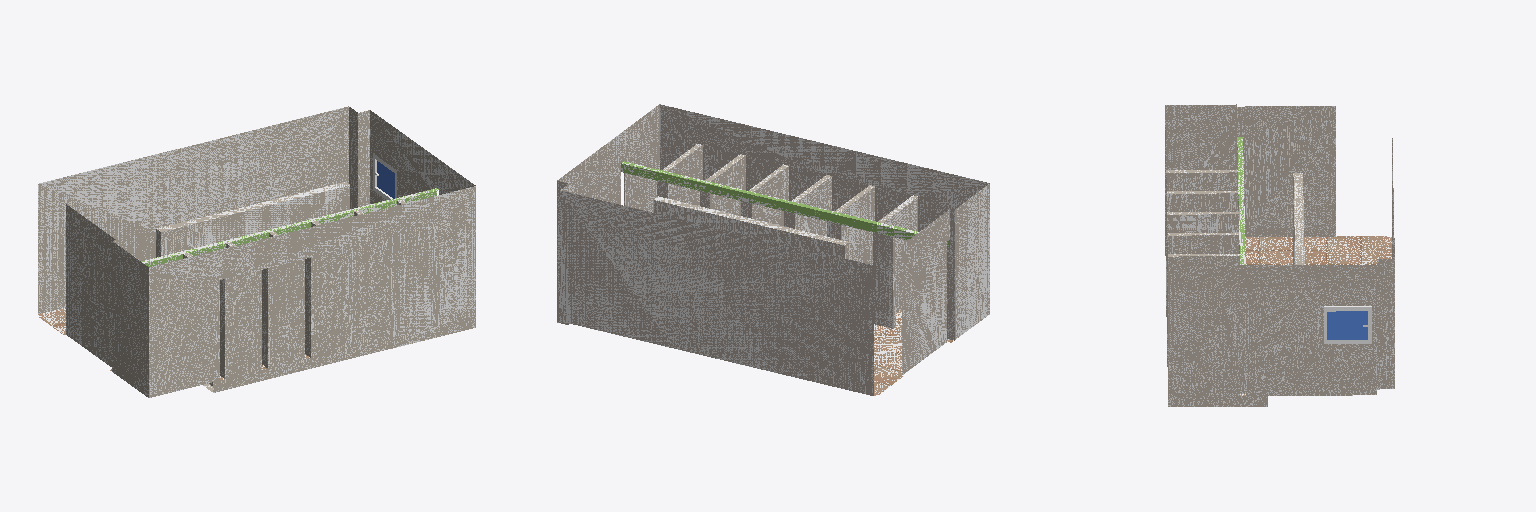
3 renders of one model, left to right at view 1: azimuth 30°, elevation 25°; view 2: azimuth 150°, elevation 25°; view 3: azimuth 270°, elevation 25°, orthographic.
Visible parts, largest first — view 1: Mesh4 COM003 Model, Mesh1 ventana3_1 COM003 Model; view 2: Mesh4 COM003 Model; view 3: Mesh4 COM003 Model, Mesh1 ventana3_1 COM003 Model.
Part boxes in pixels (x1,y1,x2,y2): Mesh4 COM003 Model: (38, 106, 475, 397); Mesh1 ventana3_1 COM003 Model: (373, 154, 396, 199); Mesh4 COM003 Model: (557, 104, 989, 395); Mesh4 COM003 Model: (1165, 104, 1394, 406); Mesh1 ventana3_1 COM003 Model: (1324, 306, 1371, 343).
Bounding box in the file's own units: 7.93 × 3.25 × 4.77.
Materials: 6 (1 with a texture image).